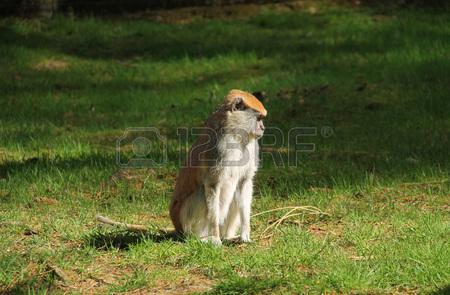monkey: (169, 90, 268, 247)
